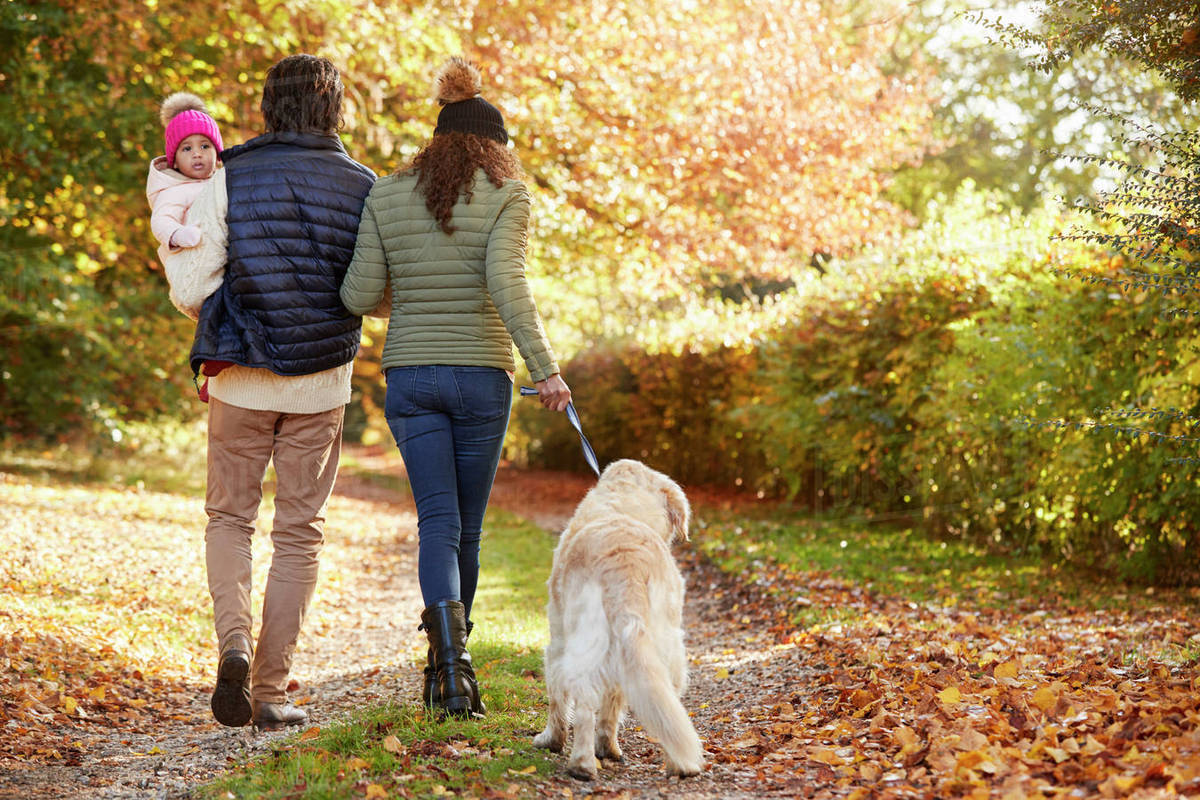Person: (339, 81, 571, 734), (175, 34, 373, 738), (126, 85, 267, 327)
